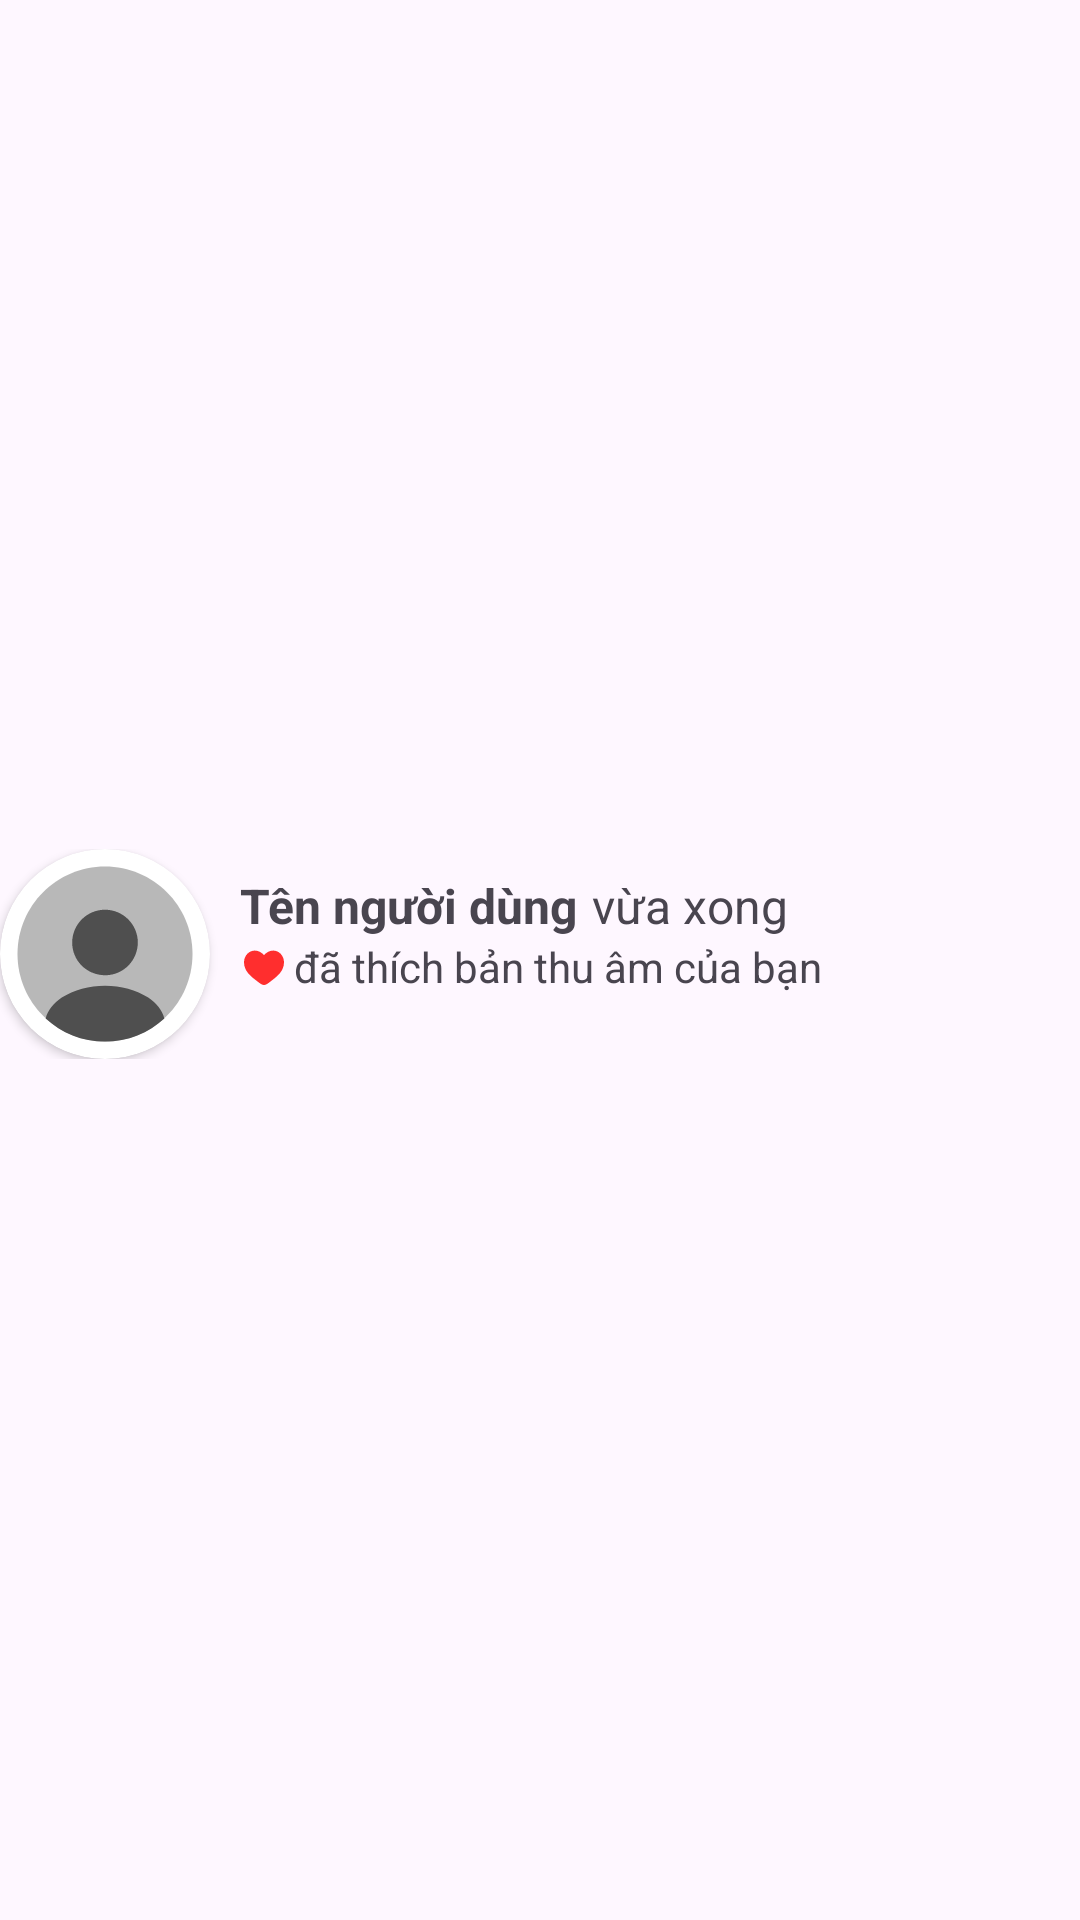

Where icons sit on this 1080px×1920px app screen, as (x1, y1, x2, y2):
heart: (244, 950, 284, 985)
profile: (0, 866, 193, 1059)
